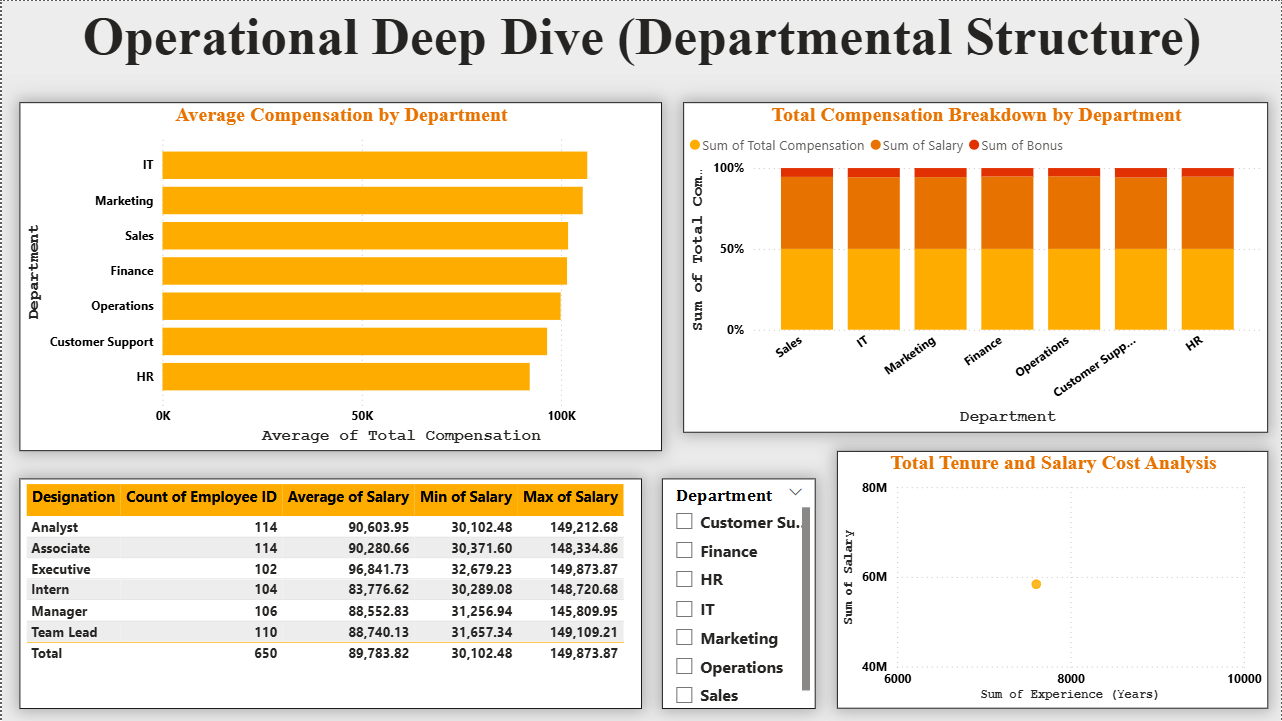

This screenshot's page, from the dashboard's own definition file:
{"tool":"powerbi","page":{"name":"Page 4","canvas":[1280,720],"ordinal":3},"visuals":[{"type":"textbox","box":[0,0,1280,73.8],"z":0},{"type":"clusteredBarChart","title":"Average Compensation by Department","fields":{"Category":["Sheet1.Department","Sheet1.Designation"],"Y":["Avg(Sheet1.Total Compensation)"]},"box":[17.5,101.2,642.5,348.8],"z":1},{"type":"tableEx","fields":{"Values":["Sheet1.Designation","Sheet1.Employee ID","Avg(Sheet1.Salary)","Min(Sheet1.Salary)1","Max(Sheet1.Salary)2"]},"box":[17.5,477.5,622.5,230],"z":2},{"type":"scatterChart","title":"Total Tenure and Salary Cost Analysis","fields":{"Y":["Sum(Sheet1.Salary)"],"X":["Sum(Sheet1.Experience (Years))"]},"box":[835,450,431.2,257.5],"z":4},{"type":"slicer","fields":{"Values":["Sheet1.Department"]},"box":[660,477.5,153.8,230],"z":5},{"type":"hundredPercentStackedColumnChart","title":"Total Compensation Breakdown by Department","fields":{"Category":["Sheet1.Department"],"Y":["Sum(Sheet1.Total Compensation)","Sum(Sheet1.Salary)","Sum(Sheet1.Bonus)"]},"box":[681.2,101.2,585,330],"z":6}]}

Visuals, with their boxes in screenshot pixels (x1, y1, x2, y2), scaled from the page's 1280x720 canvas onto the 1282x721 screenshot:
textbox: x1=0, y1=0, x2=1281, y2=74
"Average Compensation by Department" clusteredBarChart: x1=18, y1=101, x2=661, y2=451
tableEx - Sheet1.Designation x Sheet1.Employee ID: x1=18, y1=478, x2=641, y2=708
"Total Tenure and Salary Cost Analysis" scatterChart: x1=836, y1=451, x2=1268, y2=708
slicer - Sheet1.Department: x1=661, y1=478, x2=815, y2=708
"Total Compensation Breakdown by Department" hundredPercentStackedColumnChart: x1=682, y1=101, x2=1268, y2=432
